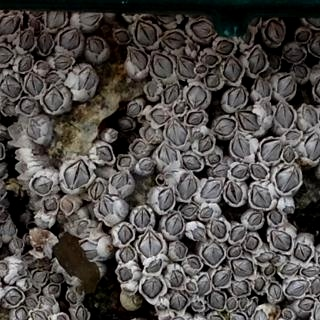Barnacle: (65, 161, 90, 191), (276, 165, 300, 193), (139, 231, 163, 259), (134, 21, 158, 47), (167, 119, 189, 147), (76, 66, 98, 91), (43, 88, 64, 114), (204, 241, 224, 268), (60, 28, 82, 52), (152, 53, 173, 78), (179, 174, 198, 201), (260, 140, 282, 163), (232, 133, 252, 158), (252, 184, 272, 209), (247, 49, 266, 75), (143, 277, 164, 300), (275, 103, 294, 128), (1, 76, 22, 98), (239, 110, 260, 132), (271, 231, 293, 252), (232, 258, 254, 279), (164, 31, 187, 51), (224, 59, 243, 83), (189, 85, 208, 109), (228, 86, 247, 110), (32, 175, 54, 195), (79, 242, 101, 262), (225, 182, 244, 205), (267, 20, 284, 45), (0, 14, 19, 36), (277, 75, 296, 97), (202, 180, 224, 199), (46, 9, 66, 29), (157, 145, 178, 164), (178, 56, 196, 78), (26, 74, 43, 97), (214, 118, 237, 135), (210, 220, 229, 240), (293, 244, 313, 263), (130, 51, 148, 72), (192, 21, 214, 38), (166, 214, 183, 236), (287, 280, 310, 296), (164, 84, 181, 105), (159, 189, 174, 212), (169, 292, 187, 311), (19, 31, 35, 52), (77, 13, 100, 27), (255, 80, 271, 100), (182, 155, 202, 171), (284, 47, 305, 62), (38, 33, 52, 55), (214, 270, 231, 288), (302, 107, 318, 126), (26, 120, 41, 140), (100, 197, 115, 217), (232, 280, 249, 297), (18, 56, 34, 74), (20, 98, 36, 116), (152, 109, 170, 125), (113, 172, 129, 190), (308, 135, 319, 161), (135, 209, 150, 228), (209, 292, 224, 311), (197, 277, 211, 297), (205, 74, 222, 90), (97, 146, 113, 163), (5, 289, 22, 305), (199, 135, 214, 153), (181, 202, 199, 217), (119, 226, 132, 246), (252, 164, 267, 180), (0, 47, 14, 64), (121, 247, 135, 264), (170, 270, 184, 287), (54, 57, 72, 70), (91, 183, 104, 201), (89, 38, 103, 54), (217, 41, 233, 55), (188, 112, 204, 126), (232, 226, 246, 242), (242, 28, 254, 46), (281, 264, 299, 276), (146, 260, 161, 274), (261, 103, 274, 119), (138, 160, 155, 172), (212, 165, 229, 177), (232, 166, 249, 178), (3, 220, 15, 237), (32, 271, 49, 283), (269, 284, 281, 301), (246, 300, 258, 317), (310, 35, 319, 57), (294, 65, 308, 79), (304, 15, 319, 28), (132, 142, 147, 155), (247, 214, 262, 227), (246, 236, 259, 251), (120, 267, 133, 282), (284, 147, 296, 163), (17, 157, 29, 173), (193, 226, 205, 242), (202, 54, 219, 65), (147, 81, 158, 98), (175, 242, 186, 259), (76, 222, 90, 235), (300, 298, 314, 311), (75, 306, 89, 319), (61, 199, 73, 214), (199, 207, 214, 219), (40, 296, 55, 308), (269, 212, 282, 225), (120, 118, 134, 130), (2, 105, 17, 116), (144, 128, 155, 143), (269, 54, 279, 70), (37, 61, 50, 73), (129, 104, 142, 116), (229, 246, 242, 258), (297, 31, 311, 42), (118, 157, 132, 168), (286, 131, 302, 140), (303, 268, 319, 277), (31, 20, 42, 33), (117, 31, 130, 42), (30, 312, 50, 319), (189, 258, 201, 269), (264, 265, 275, 277), (47, 74, 60, 84), (311, 279, 319, 295), (0, 165, 9, 179), (51, 273, 65, 282), (255, 279, 264, 293), (254, 310, 268, 319), (174, 104, 186, 114), (258, 254, 271, 263), (25, 300, 39, 308), (194, 300, 205, 310), (187, 282, 197, 292), (227, 300, 237, 310), (283, 309, 293, 319), (17, 309, 27, 319), (197, 65, 208, 74), (209, 155, 220, 164), (284, 207, 295, 216), (49, 286, 60, 295), (68, 293, 77, 304), (14, 240, 23, 249), (0, 184, 6, 197), (13, 128, 20, 138), (0, 263, 7, 271)
